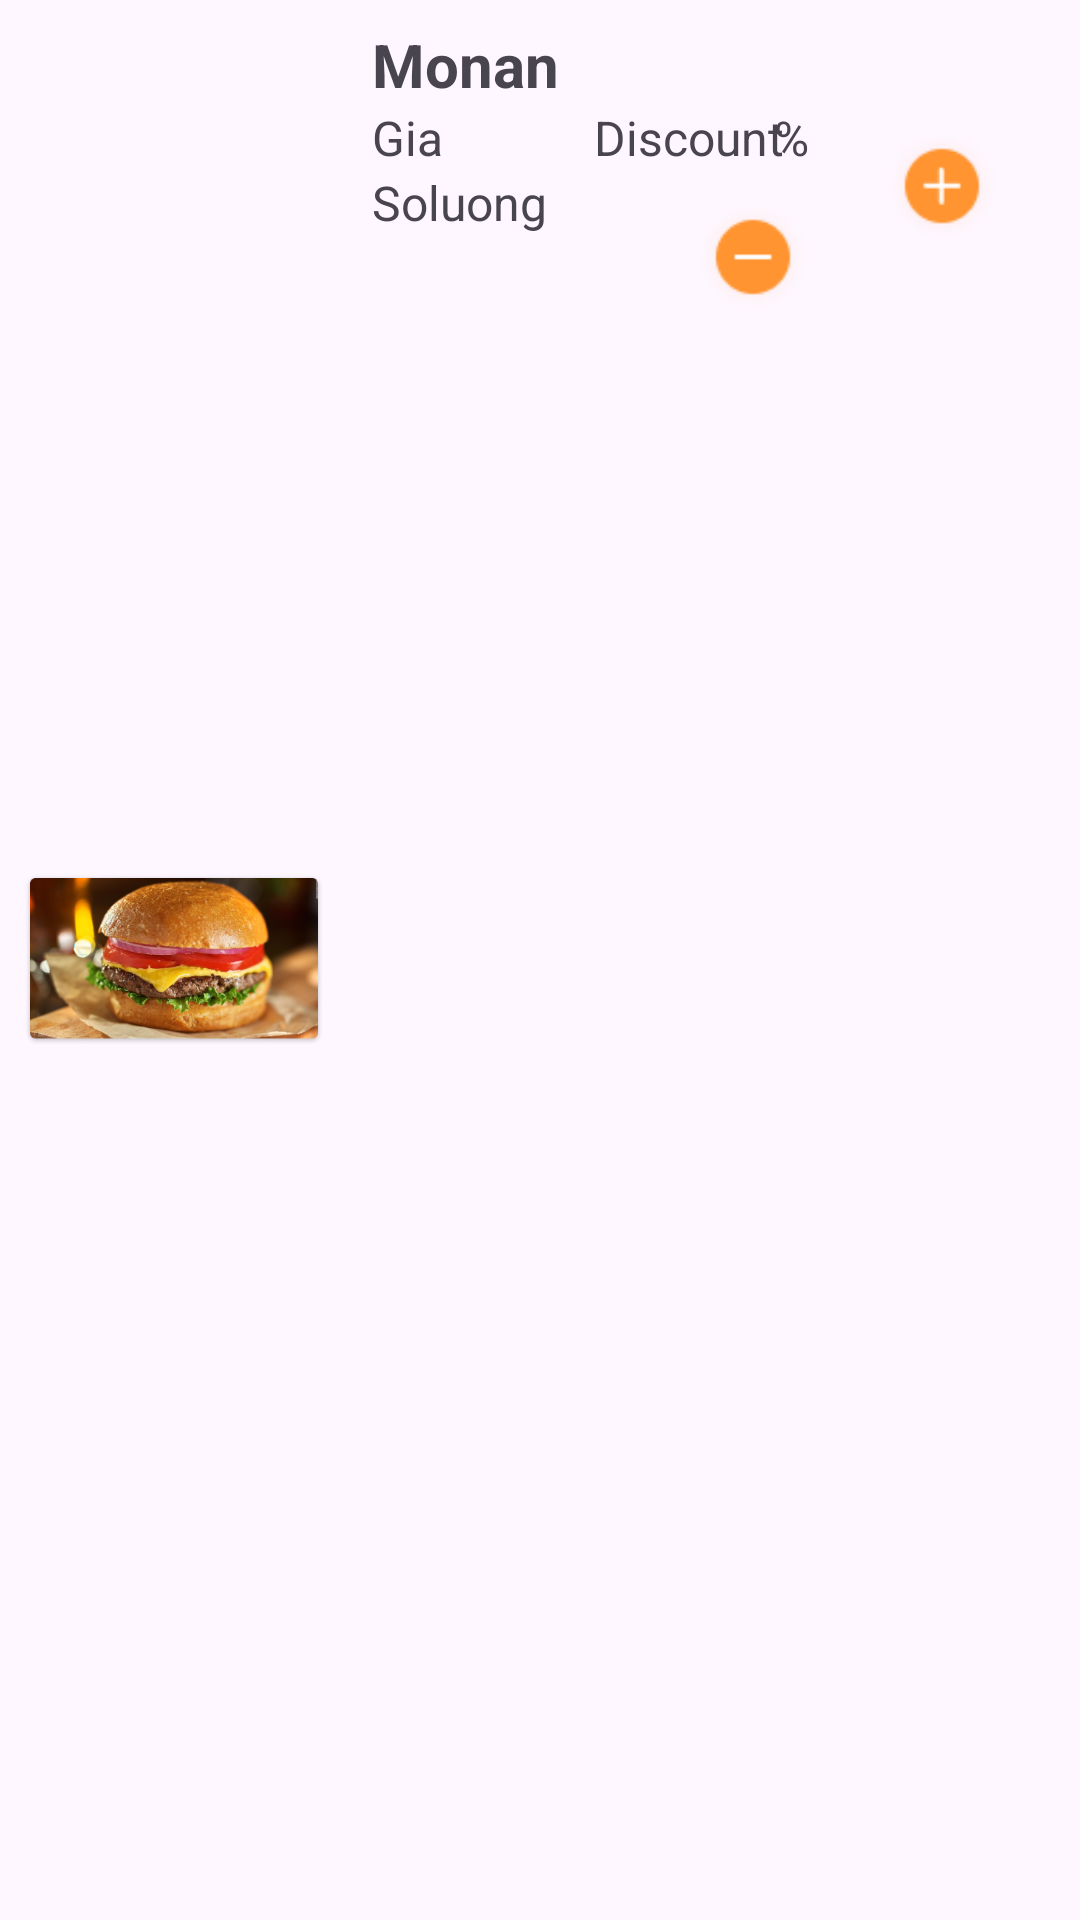

Screen size 1080px x 1920px. Icon name, then its center in pixels as [x,y]:
anhdemo: [174,959]
